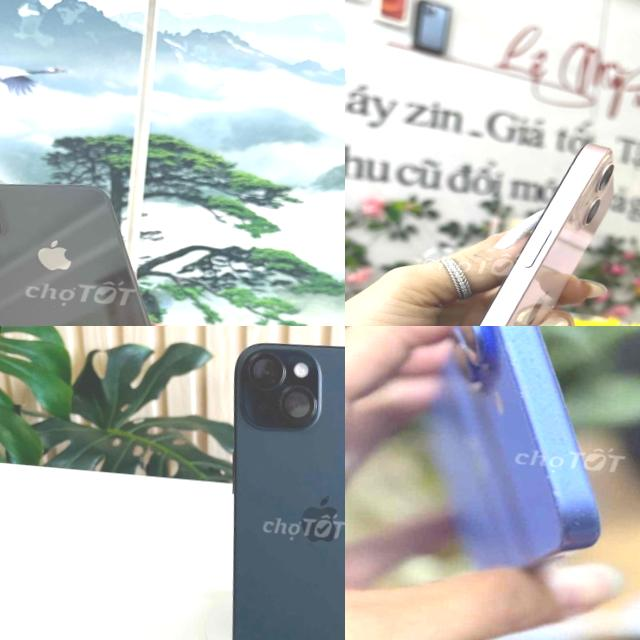gen_12_13: (405, 127, 629, 326)
gen_15: (187, 331, 345, 640)
gen_16: (431, 326, 598, 568)
gen_x_xs: (0, 184, 149, 326)
